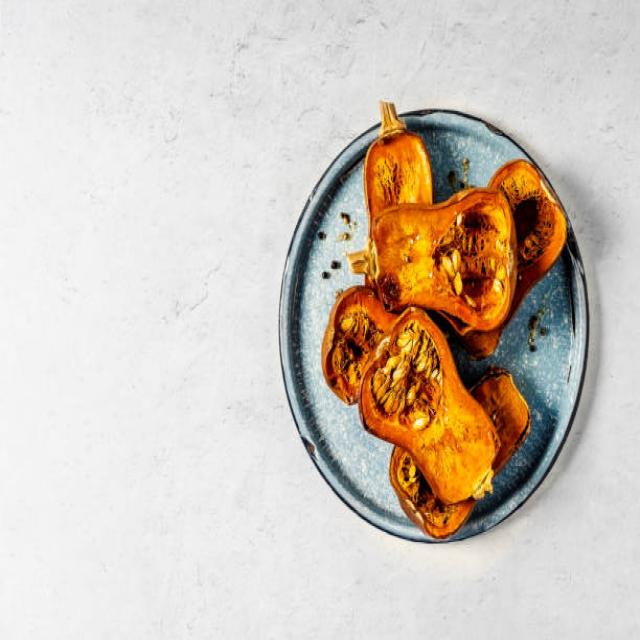pumpkin: (319, 132, 574, 539)
